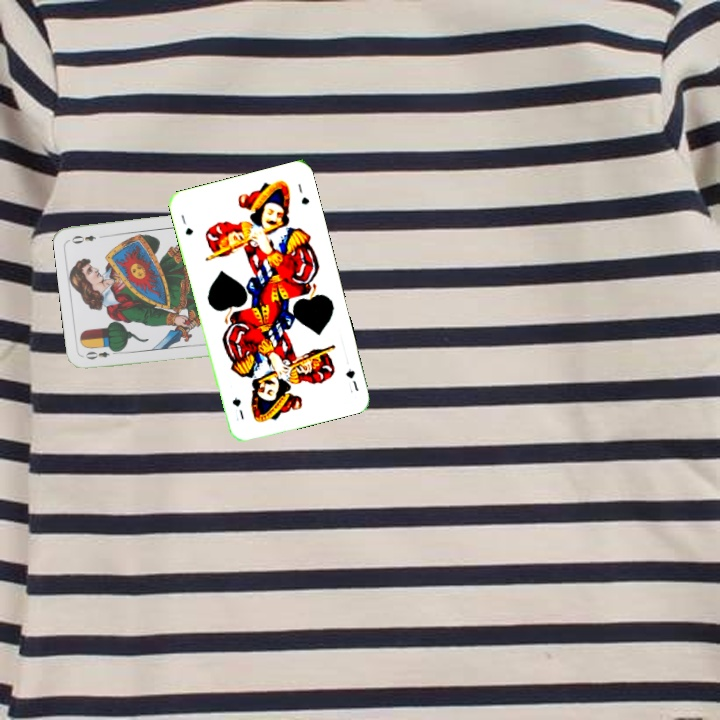EO: (81, 345, 121, 362)
GU: (342, 365, 361, 395), (177, 211, 195, 238)
